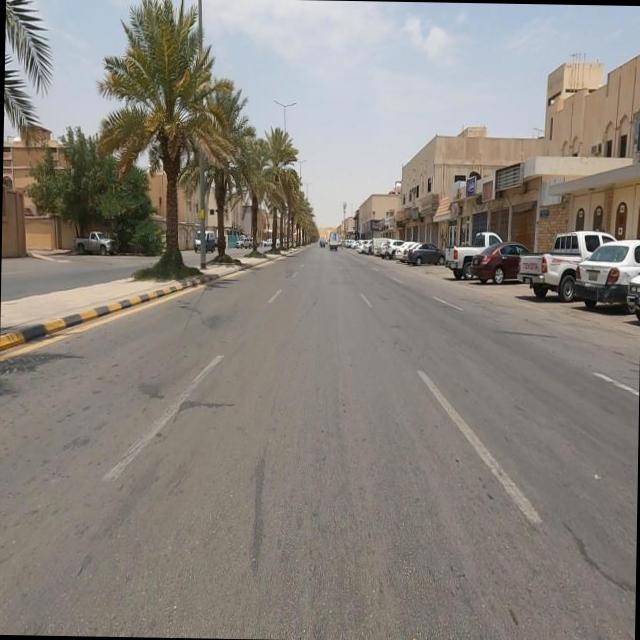debris: (467, 132, 549, 223), (398, 184, 434, 234)
